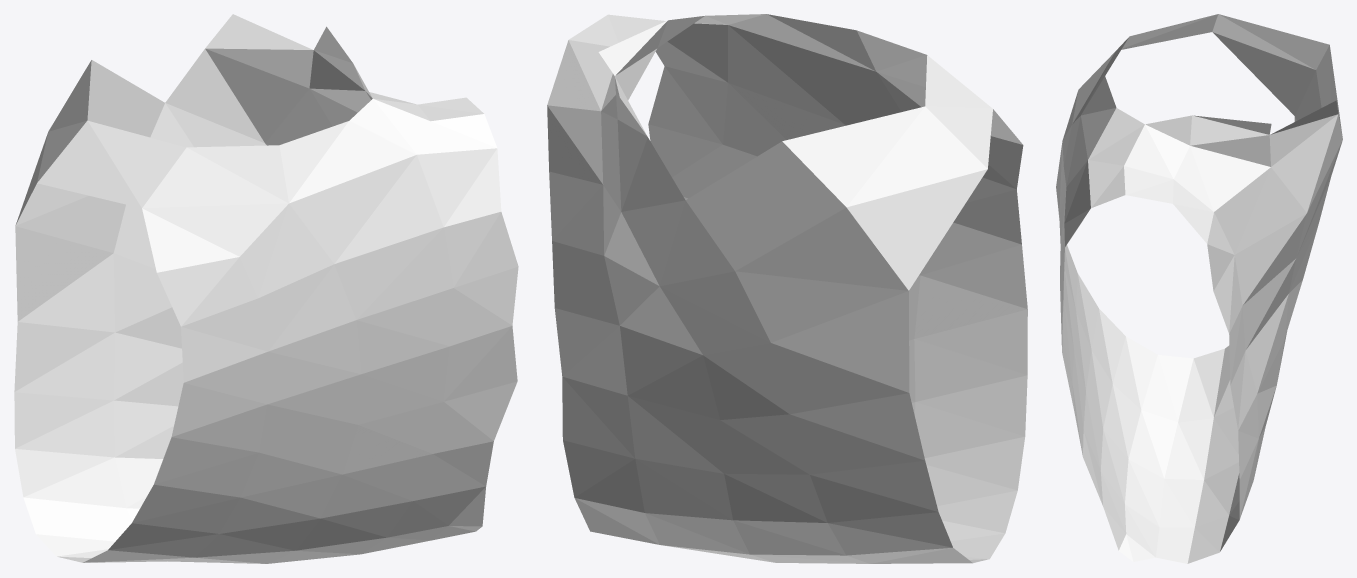
Rendered from r_hand_palm.dae.
3 renders of one model, left to right at view 1: azimuth 30°, elevation 25°; view 2: azimuth 150°, elevation 25°; view 3: azimuth 270°, elevation 25°, orthographic. The views are drawn at different scales.
Visible parts, largest first — view 1: node; view 2: node; view 3: node.
Part boxes in pixels (box(x1,y1,x2,y2)): node: box(14, 14, 518, 563); node: box(547, 14, 1027, 563); node: box(1056, 14, 1342, 563).
Bounding box in the file's own units: 0.0852 × 0.097 × 0.0593.
1 material, 1 textured.
